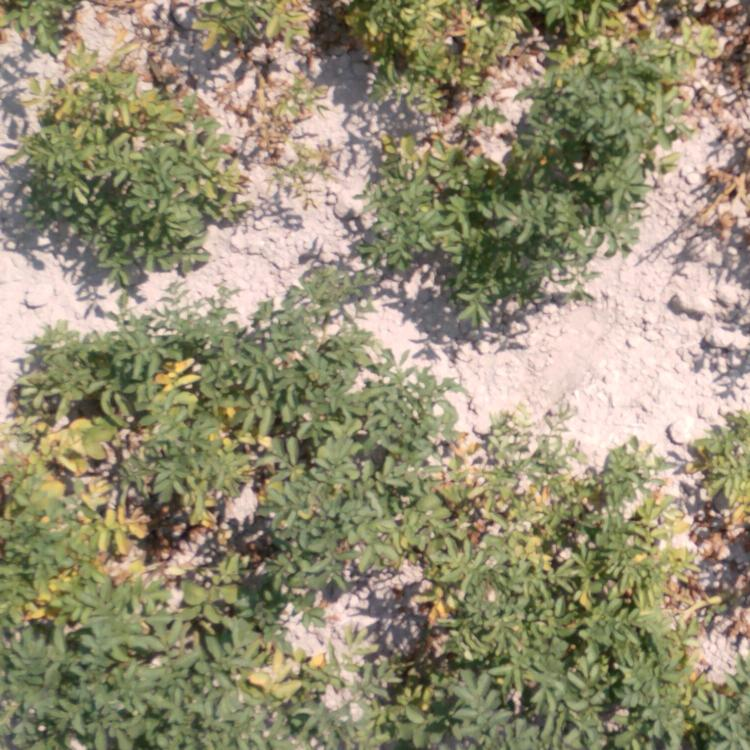healthy: (462, 590, 633, 740), (15, 635, 196, 740), (281, 324, 432, 437), (545, 91, 633, 236), (56, 155, 172, 257), (383, 197, 515, 266)
stressed: (6, 344, 157, 615), (452, 433, 663, 581), (339, 1, 501, 170), (163, 329, 270, 548), (293, 445, 435, 580), (513, 2, 733, 86), (44, 62, 212, 149), (224, 613, 314, 735), (379, 604, 451, 731), (660, 596, 718, 735), (149, 5, 318, 48), (693, 423, 746, 532), (255, 90, 301, 169), (1, 4, 79, 44)
